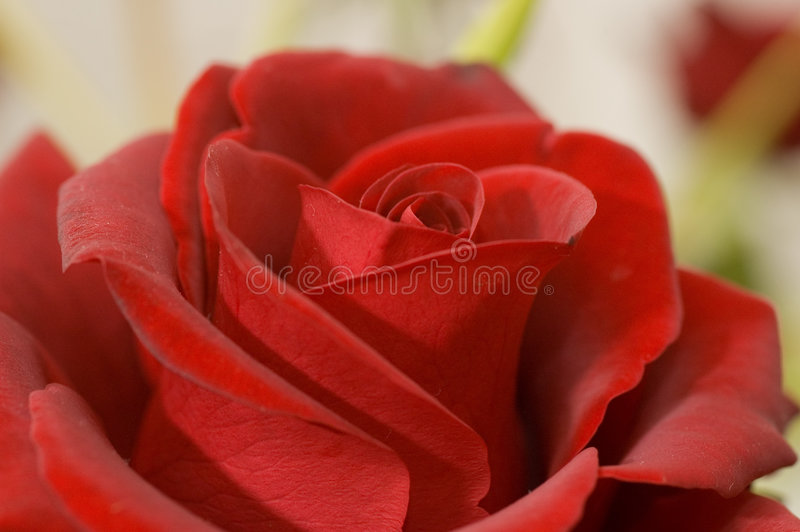RedRose: (6, 47, 795, 532)
